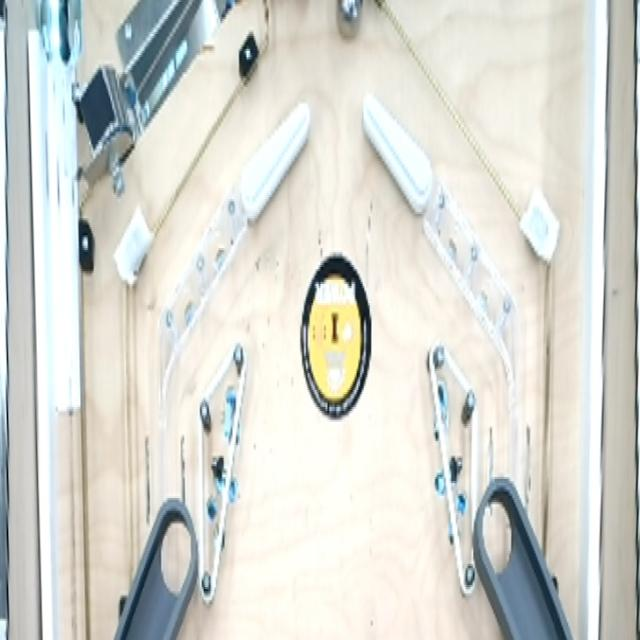ball: (335, 0, 367, 38)
flipper-left: (359, 86, 436, 220)
flipper-right: (236, 93, 314, 230)
